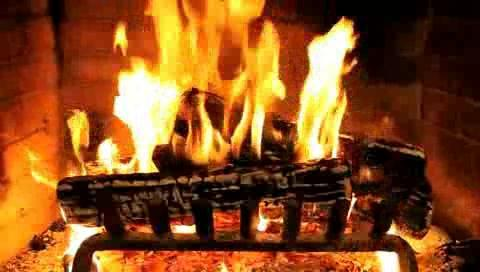fire: (5, 0, 480, 180)
